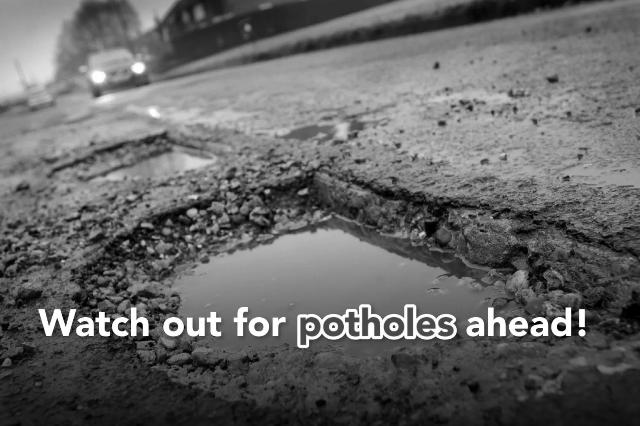Pothole: (74, 165, 639, 426), (50, 135, 218, 183)
